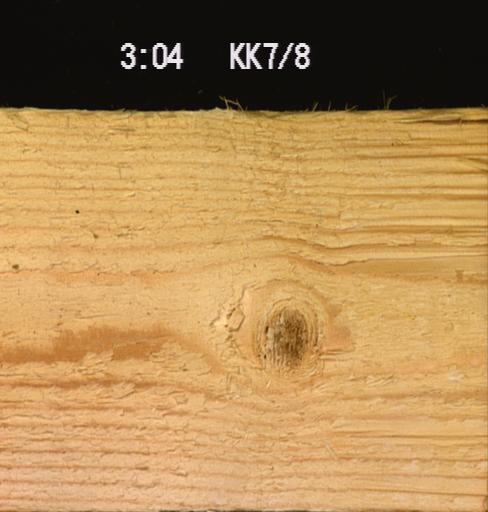sound_knot: (256, 303, 309, 374)
split: (392, 109, 486, 128)
